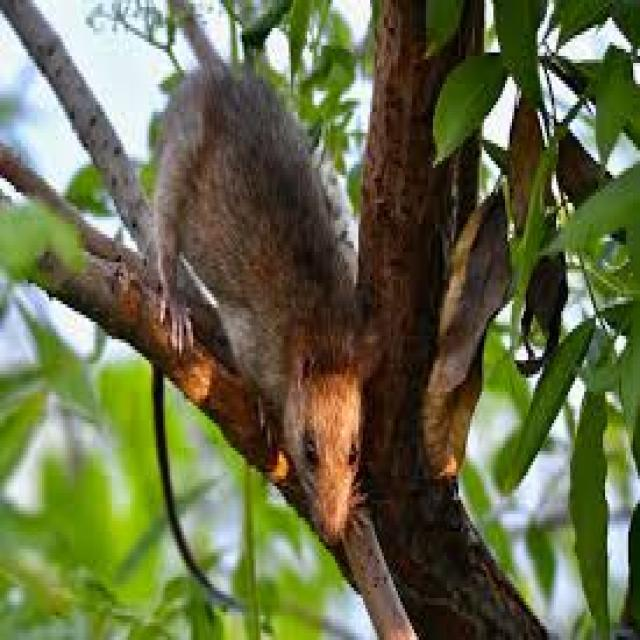Rat: (119, 0, 381, 572)
